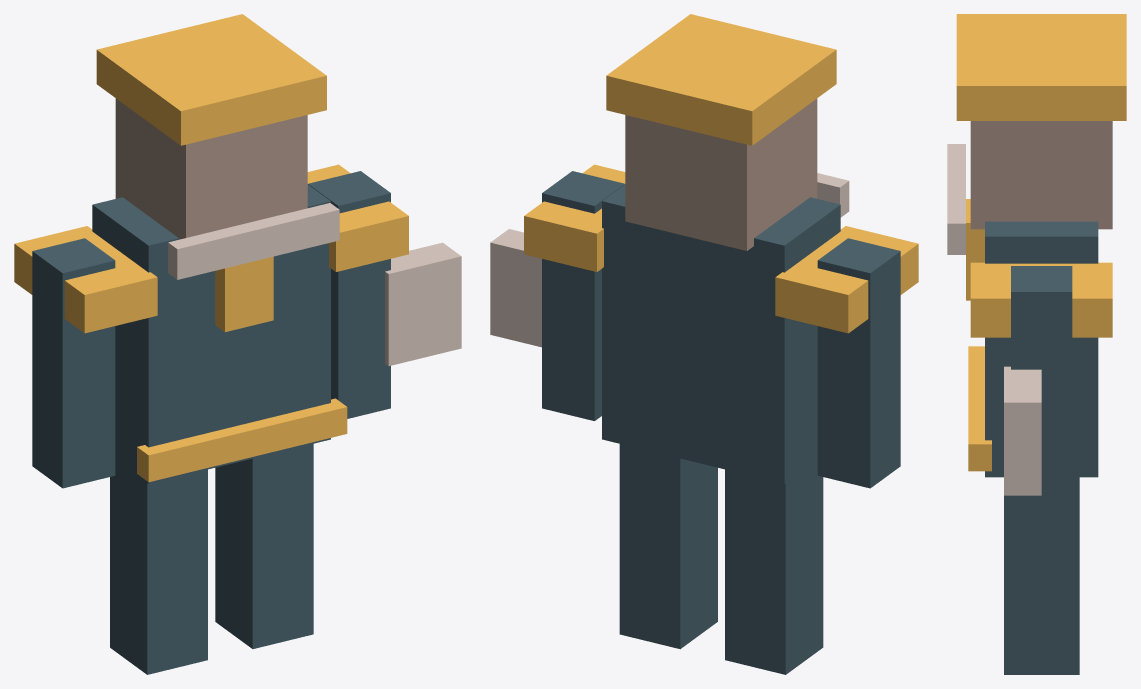
Rendered from 05_elo_glassroot_operator_from_central.glb.
3 renders of one model, left to right at view 1: azimuth 30°, elevation 25°; view 2: azimuth 150°, elevation 25°; view 3: azimuth 270°, elevation 25°, orthographic.
Visible parts, largest first — view 1: Elo Glassroot, Operator from Central; view 2: Elo Glassroot, Operator from Central; view 3: Elo Glassroot, Operator from Central.
Boxes of the visible parts, <box> form: Elo Glassroot, Operator from Central: <box>14,14,461,674</box>; Elo Glassroot, Operator from Central: <box>490,14,918,674</box>; Elo Glassroot, Operator from Central: <box>947,14,1126,674</box>.
Bounding box in the file's own units: 1.06 × 1.48 × 0.4122.
